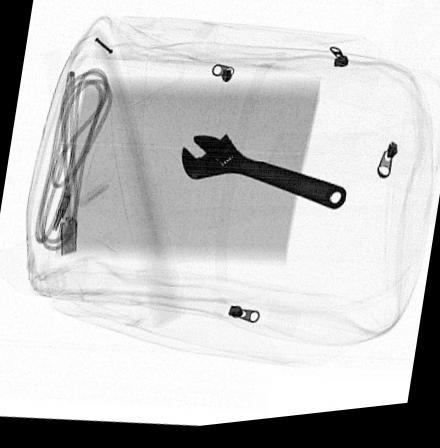Wrench: (180, 134, 347, 218)
